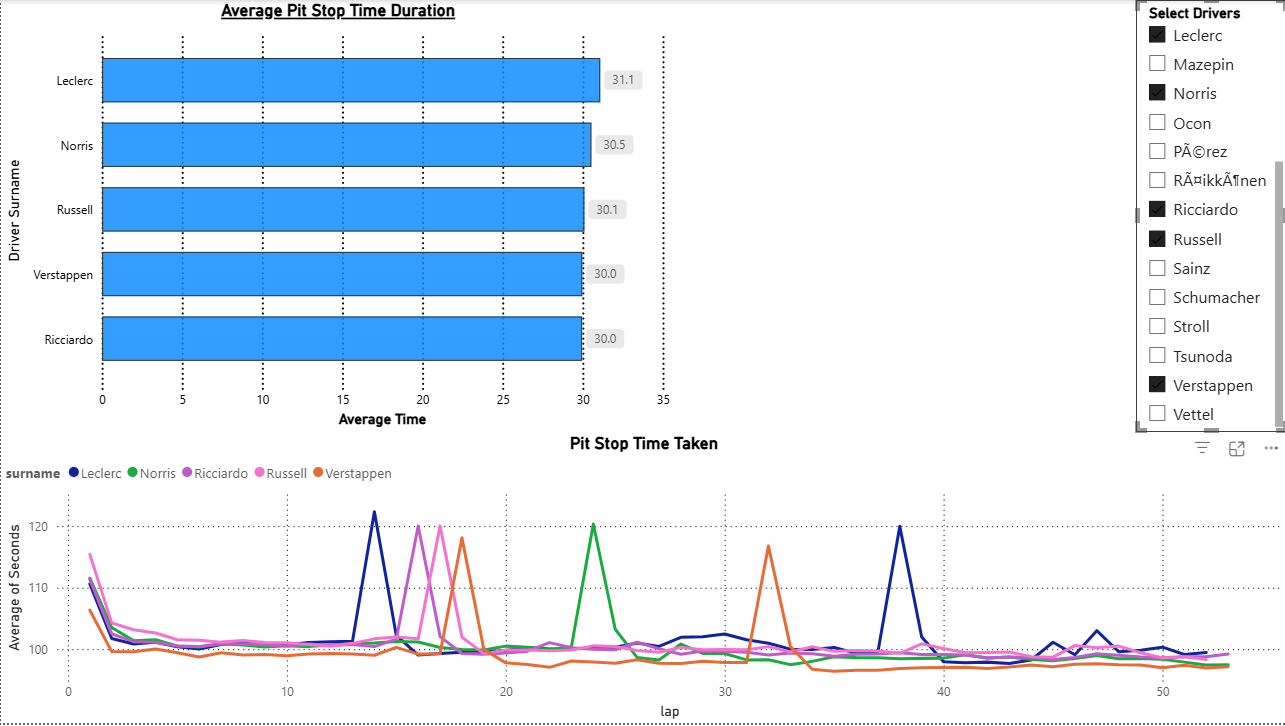

What the dashboard file says about the page in this screenshot:
{"tool":"powerbi","page":{"name":"Page 1","canvas":[1280,720],"ordinal":0},"visuals":[{"type":"clusteredBarChart","title":"Average Pit Stop Time Duration","fields":{"Category":["project_1 driver_data.surname"],"Y":["Avg(project_1 pit_data.duration)"]},"box":[0,0,671,430],"z":0},{"type":"lineChart","title":"Pit Stop Time Taken","fields":{"Category":["project_1 lap_data.lap"],"Y":["Sum(project_1 lap_data.seconds)"],"Series":["project_1 driver_data.surname"]},"box":[0,430,1280,290],"z":1000},{"type":"slicer","fields":{"Values":["project_1 driver_data.surname"]},"box":[1129,0,151,430],"z":2000}]}

Visuals, with their boxes in screenshot pixels (x1, y1, x2, y2), scaled from the page's 1280x720 canvas onto the 1285x726 screenshot:
"Average Pit Stop Time Duration" clusteredBarChart: 0, 0, 674, 434
"Pit Stop Time Taken" lineChart: 0, 434, 1284, 725
slicer - project_1 driver_data.surname: 1133, 0, 1284, 434
